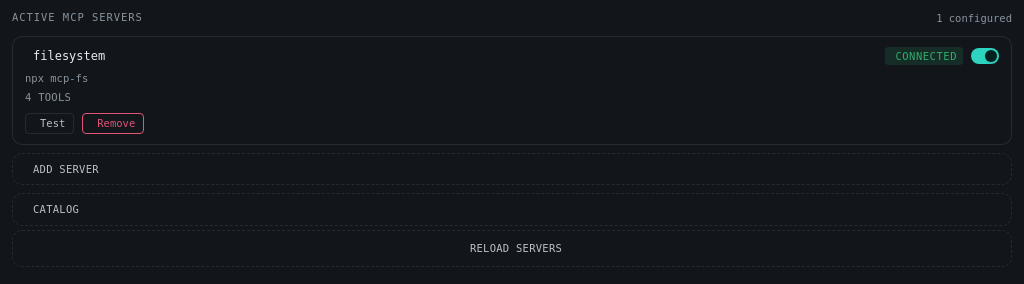
AU-40: row "Test" goes BUSY, not natively disabled, while mcp.test is in flight › while pending: not natively disabled, aria-busy + aria-disabled both true, and focus survives the click
The image size is (1024, 284).
Step 1. Click the button "Test" → [50, 123], box [25,113,74,134]
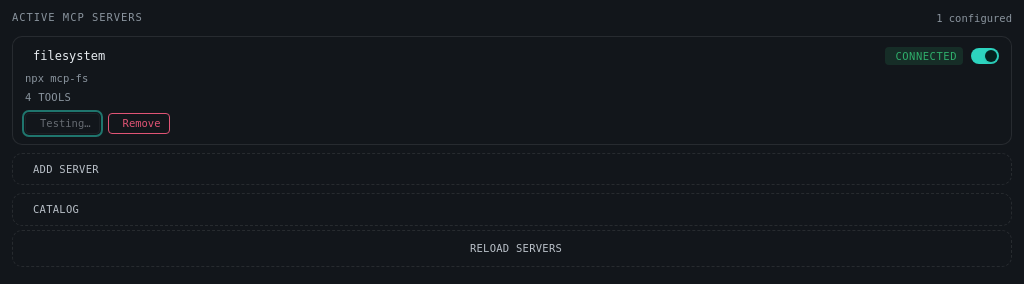
Expected: the button "Testing…" is enabled, [25,113,100,134]
